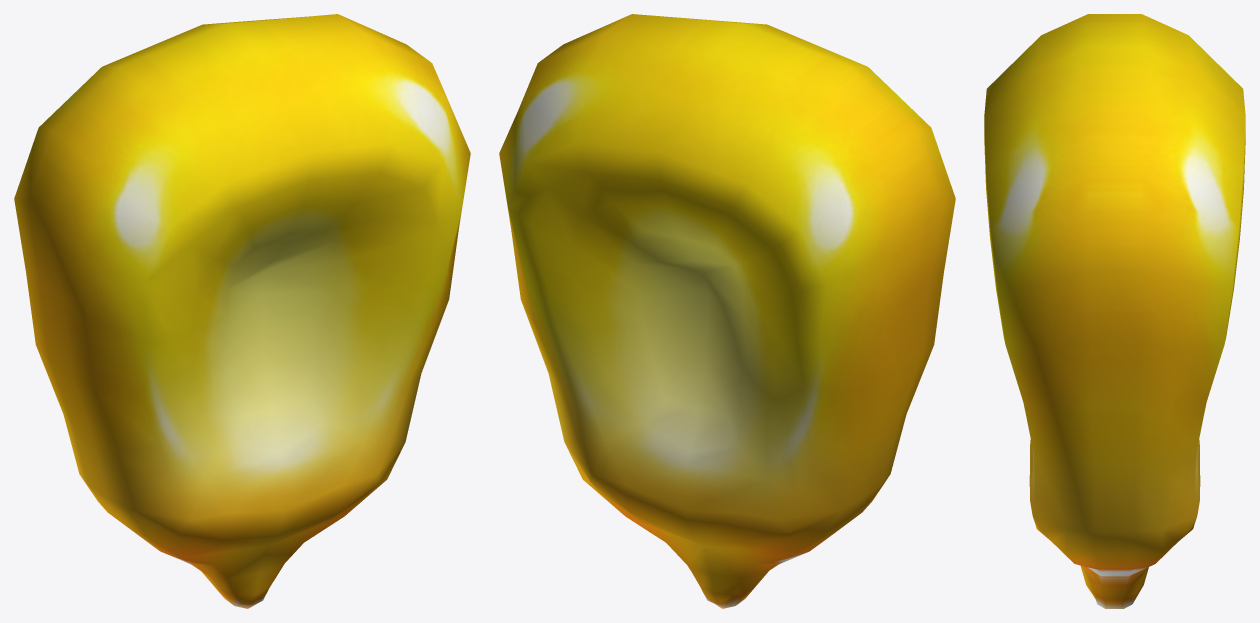
Rendered from Popcorn_ads_NewKernel.fbx.
3 renders of one model, left to right at view 1: azimuth 30°, elevation 25°; view 2: azimuth 150°, elevation 25°; view 3: azimuth 270°, elevation 25°, orthographic. The views are drawn at different scales.
Visible parts, largest first — view 1: pop_kernel.002; view 2: pop_kernel.002; view 3: pop_kernel.002.
Boxes of the visible parts, box(x1,y1,x2,y2) form: pop_kernel.002: box(14, 14, 470, 608); pop_kernel.002: box(499, 14, 955, 608); pop_kernel.002: box(984, 14, 1245, 608).
Bounding box in the file's own units: 3.16 × 4.28 × 1.82.
1 material, 1 textured.
